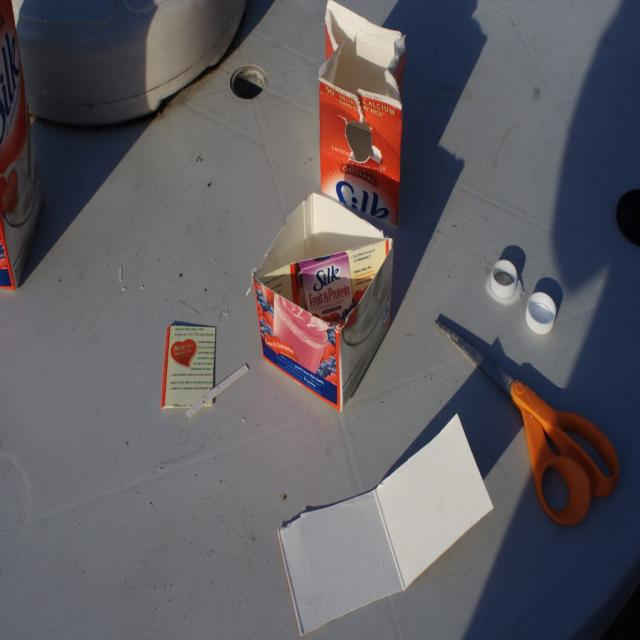scissors: (434, 312, 620, 526)
